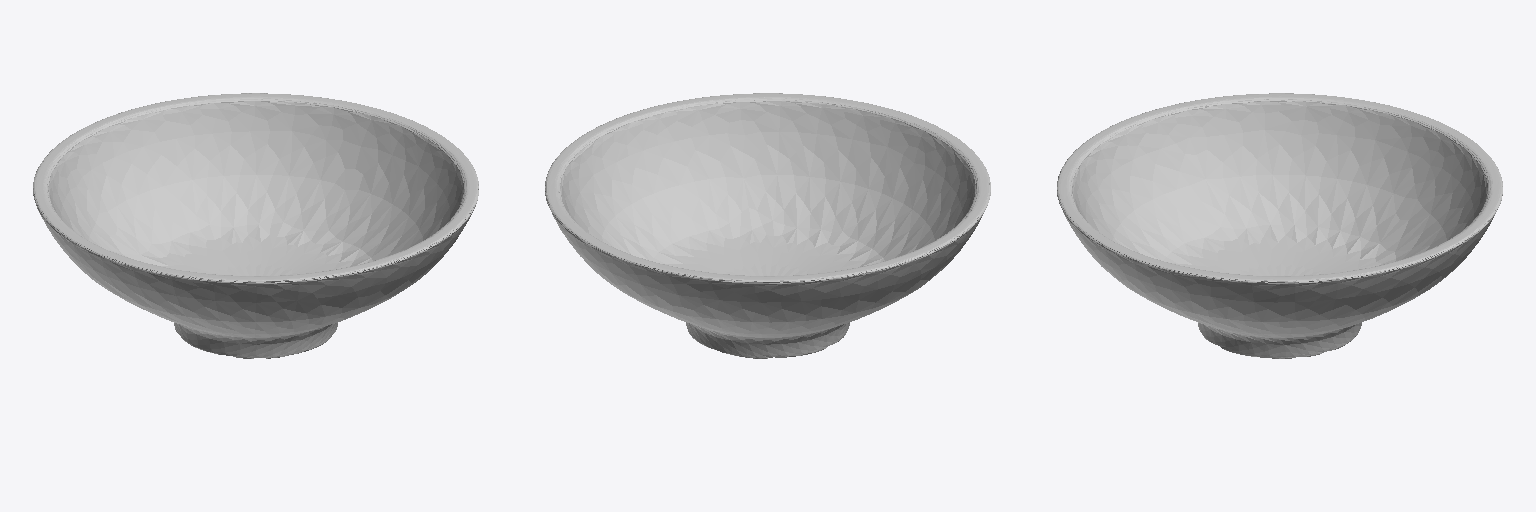
The model's file is pot1_White.obj.
3 views of the same model, side by side, from view 1: azimuth 30°, elevation 25°; view 2: azimuth 150°, elevation 25°; view 3: azimuth 270°, elevation 25° (orthographic).
Parts seen in each view (by area): view 1: Pot.001; view 2: Pot.001; view 3: Pot.001.
Part boxes in pixels (x1,y1,x2,y2): Pot.001: (33, 93, 478, 358); Pot.001: (545, 93, 990, 358); Pot.001: (1057, 93, 1502, 358).
Bounding box in the file's own units: 0.18 × 0.0617 × 0.1801.